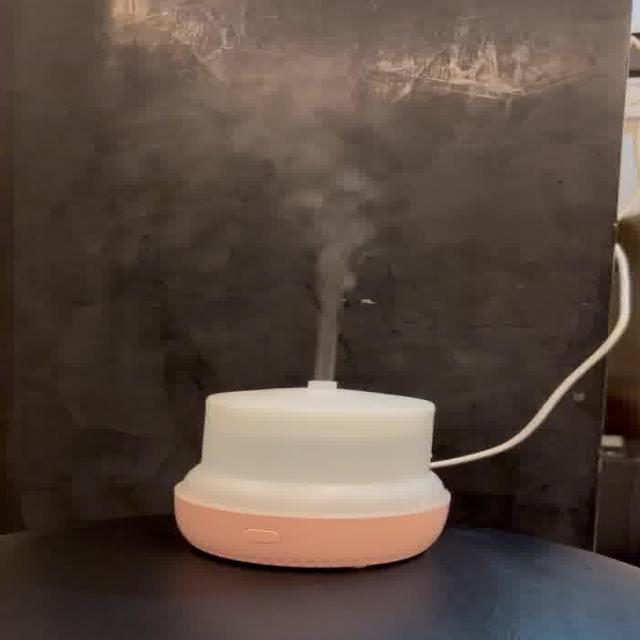fire: (237, 90, 407, 377)
